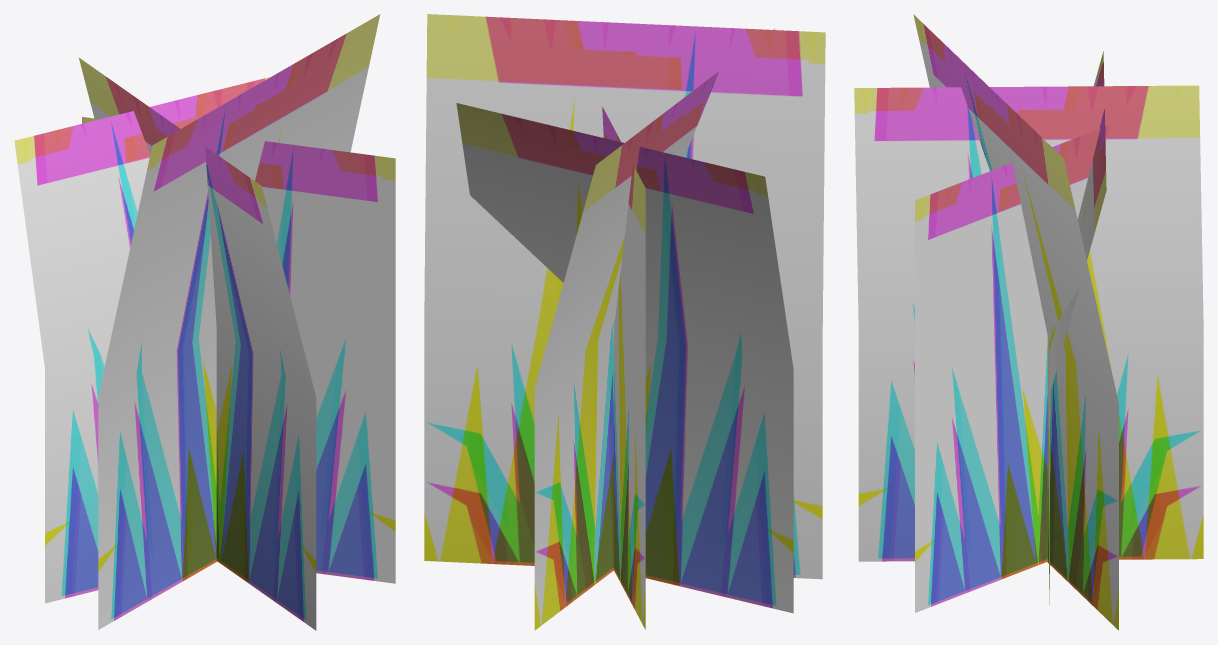
The model's file is EA03_Plant_Grass_02a.fbx.
The picture shows the model from 3 angles, left to right: view 1: azimuth 30°, elevation 25°; view 2: azimuth 150°, elevation 25°; view 3: azimuth 270°, elevation 25°; orthographic projection. The views are drawn at different scales.
Visible parts, largest first — view 1: EA03_Plant_Grass_02a; view 2: EA03_Plant_Grass_02a; view 3: EA03_Plant_Grass_02a.
Boxes of the visible parts, left/top/right/bottom form: EA03_Plant_Grass_02a: left=14, top=14, right=395, bottom=630; EA03_Plant_Grass_02a: left=424, top=14, right=825, bottom=630; EA03_Plant_Grass_02a: left=854, top=14, right=1203, bottom=630.
Size of the model in its own units: 37.55 by 51.85 by 33.91.
